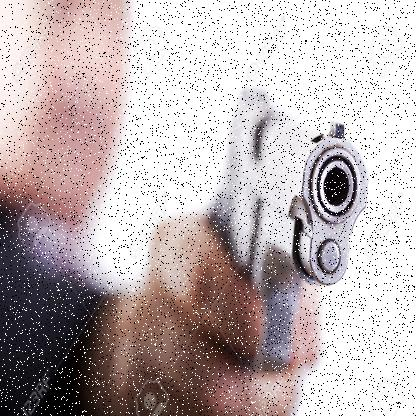pistol: (206, 69, 370, 399)
